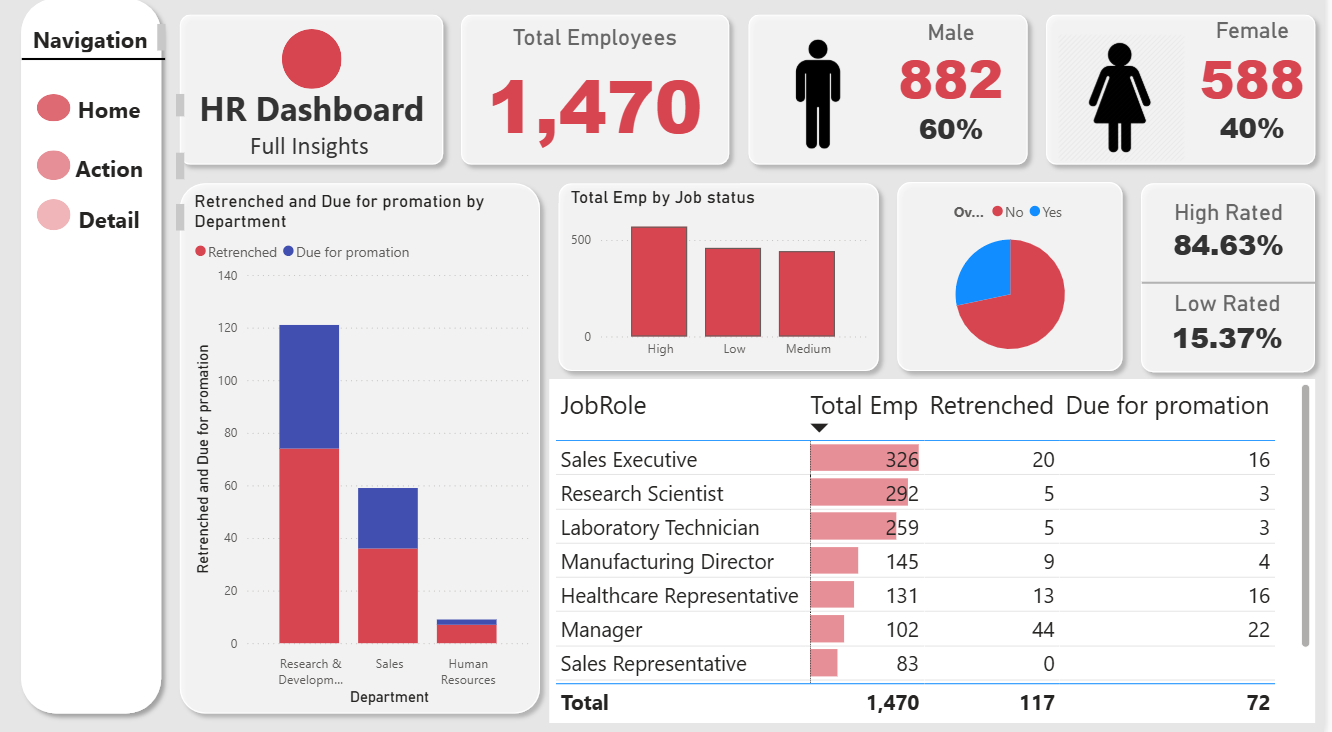

The dashboard page shown, as its layout file describes it:
{"tool":"powerbi","page":{"name":"Detail","canvas":[1280,720],"ordinal":2},"visuals":[{"type":"shape","box":[13.3,0,153.2,708.2],"z":0},{"type":"shape","box":[166.3,15.1,272.1,162.8],"z":1000},{"type":"shape","box":[438.4,15.1,276.7,162.8],"z":2000},{"type":"shape","box":[1002.3,15.1,277.9,162.8],"z":3000},{"type":"shape","box":[715.1,15.1,287.2,162.8],"z":4000},{"type":"textbox","box":[179.8,88.1,246.1,55.5],"z":5000},{"type":"textbox","box":[179.8,131.5,241.3,47.1],"z":6000},{"type":"shape","box":[273.9,38.6,57.9,57.9],"z":7000},{"type":"card","title":"Total Employees","fields":{"Values":["Dax functions.Total Emp"]},"box":[457.2,33.8,237.7,125.5],"z":8000},{"type":"card","title":"Male","fields":{"Values":["Dax functions.Male"]},"box":[848.1,29,143.6,86.9],"z":9000},{"type":"card","title":"Male","fields":{"Values":["Dax functions.% male"]},"box":[848.1,106.2,143.6,59.1],"z":10000},{"type":"card","title":"Female","fields":{"Values":["Dax functions.Female"]},"box":[1141.3,27.7,138.7,88.1],"z":11000},{"type":"card","title":"Male","fields":{"Values":["Dax functions.% female"]},"box":[1141.3,105,138.7,59.1],"z":12000},{"type":"image","box":[726.3,38.6,132.7,125.5],"z":13000},{"type":"image","box":[1012.2,38.6,144.8,132.7],"z":14000},{"type":"shape","box":[166.5,178.6,365.6,529.6],"z":15000},{"type":"columnChart","fields":{"Category":["HR Analytics Data.Department"],"Y":["Dax functions.Retrenched","Dax functions.Due for promation"]},"box":[184.6,194.2,335.4,501.9],"z":16000},{"type":"shape","box":[532,178.6,326.9,199.1],"z":17000},{"type":"shape","box":[859,177.3,235.3,200.3],"z":18000},{"type":"shape","box":[1094.2,178.6,185.8,200.3],"z":19000},{"type":"shape","box":[1103.9,277.5,167.7,12.1],"z":20000},{"type":"columnChart","fields":{"Category":["HR Analytics Data.Job status"],"Y":["Dax functions.Total Emp"]},"box":[547.7,190.6,296.8,174.9],"z":21000},{"type":"pieChart","fields":{"Category":["HR Analytics Data.OverTime"],"Y":["Dax functions.Total Emp"]},"box":[872.3,194.2,209.9,171.3],"z":22000},{"type":"tableEx","fields":{"Values":["HR Analytics Data.JobRole","Dax functions.Total Emp","Dax functions.Retrenched","Dax functions.Due for promation"]},"box":[532,376.4,739.5,331.8],"z":23000},{"type":"card","title":"High Rated","fields":{"Values":["Dax functions.% High rating"]},"box":[1112.3,202.7,150.8,66.4],"z":24000},{"type":"card","title":"Low Rated","fields":{"Values":["Dax functions.% Low rating"]},"box":[1111.1,290.8,150.8,68.8],"z":25000},{"type":"textbox","box":[19.3,29,147.2,37.4],"z":26000},{"type":"textbox","box":[37.4,96.5,147.2,35],"z":27000},{"type":"textbox","box":[37.4,153.2,147.2,37.4],"z":28000},{"type":"textbox","box":[37.4,202.7,147.2,37.4],"z":29000},{"type":"shape","box":[22.9,57.9,138.7,19.3],"z":30000},{"type":"shape","box":[37.4,101.3,32.6,26.5],"z":31000},{"type":"shape","box":[37.4,155.6,32.6,29],"z":32000},{"type":"shape","box":[37.4,202.7,32.6,30.2],"z":33000}]}

Visuals, with their boxes in screenshot pixels (x1, y1, x2, y2), scaled from the page's 1280x720 canvas onto the 1332x732 screenshot:
shape: box(14, 0, 173, 720)
shape: box(173, 15, 456, 181)
shape: box(456, 15, 744, 181)
shape: box(1043, 15, 1331, 181)
shape: box(744, 15, 1043, 181)
textbox: box(187, 90, 443, 146)
textbox: box(187, 134, 438, 182)
shape: box(285, 39, 345, 98)
"Total Employees" card: box(476, 34, 723, 162)
"Male" card: box(883, 29, 1032, 118)
"Male" card: box(883, 108, 1032, 168)
"Female" card: box(1188, 28, 1331, 118)
"Male" card: box(1188, 107, 1331, 167)
image: box(756, 39, 894, 167)
image: box(1053, 39, 1204, 174)
shape: box(173, 182, 554, 720)
columnChart - HR Analytics Data.Department x Dax functions.Retrenched: box(192, 197, 541, 708)
shape: box(554, 182, 894, 384)
shape: box(894, 180, 1139, 384)
shape: box(1139, 182, 1331, 385)
shape: box(1149, 282, 1323, 294)
columnChart - HR Analytics Data.Job status x Dax functions.Total Emp: box(570, 194, 879, 372)
pieChart - HR Analytics Data.OverTime x Dax functions.Total Emp: box(908, 197, 1126, 372)
tableEx - HR Analytics Data.JobRole x Dax functions.Total Emp: box(554, 383, 1323, 720)
"High Rated" card: box(1157, 206, 1314, 274)
"Low Rated" card: box(1156, 296, 1313, 366)
textbox: box(20, 29, 173, 68)
textbox: box(39, 98, 192, 134)
textbox: box(39, 156, 192, 194)
textbox: box(39, 206, 192, 244)
shape: box(24, 59, 168, 78)
shape: box(39, 103, 73, 130)
shape: box(39, 158, 73, 188)
shape: box(39, 206, 73, 237)
